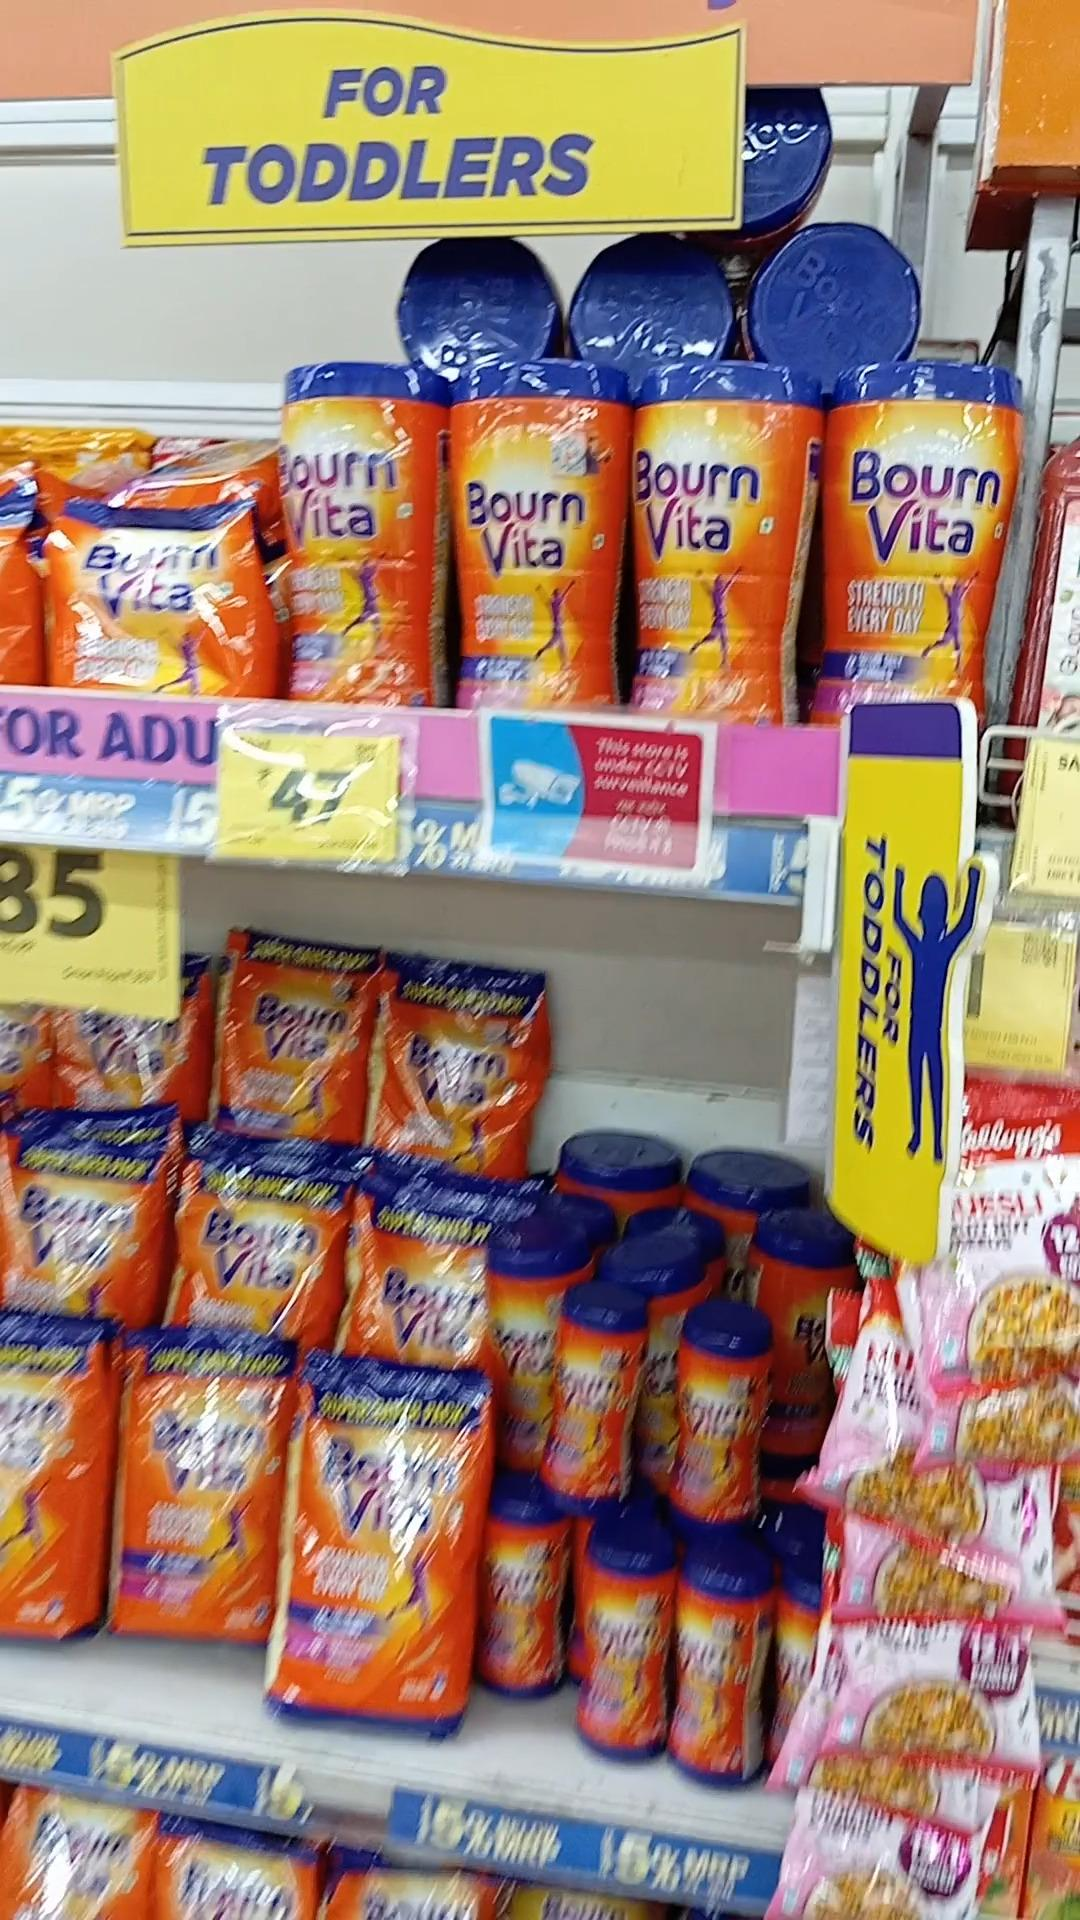BOURN_VITA_1_KG_JAR: (822, 356, 1009, 694), (636, 365, 798, 724), (451, 365, 618, 705), (281, 368, 439, 705)
BOURN_VITA_1_KG_POUCH: (294, 1360, 468, 1730), (121, 1335, 261, 1640), (386, 953, 542, 1160), (216, 934, 359, 1137), (174, 1163, 328, 1325)
BOURN_VITA_500_G_JAR: (676, 1559, 766, 1788), (674, 1303, 767, 1518), (582, 1543, 669, 1760), (547, 1299, 634, 1513), (487, 1509, 562, 1693)
BOURN_VITA_500_G_POUCH: (51, 495, 269, 690)
